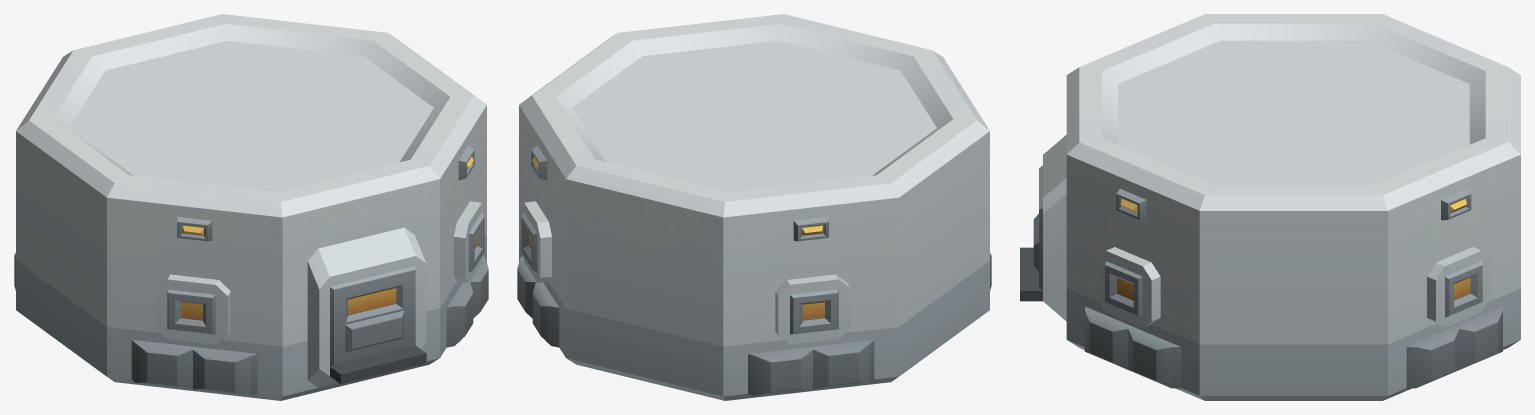
File: basemodule-c.glb
3 views of the same model, side by side, from view 1: azimuth 30°, elevation 25°; view 2: azimuth 150°, elevation 25°; view 3: azimuth 270°, elevation 25° (orthographic). The views are drawn at different scales.
Visible parts, largest first — view 1: basemodule_C; view 2: basemodule_C; view 3: basemodule_C.
Part boxes in pixels (bbox=[...]): basemodule_C: bbox=[14, 14, 488, 400]; basemodule_C: bbox=[517, 14, 991, 400]; basemodule_C: bbox=[1020, 14, 1520, 400].
Bounding box in the file's own units: 2 × 1 × 2.21.
Materials: 1 (1 with a texture image).
